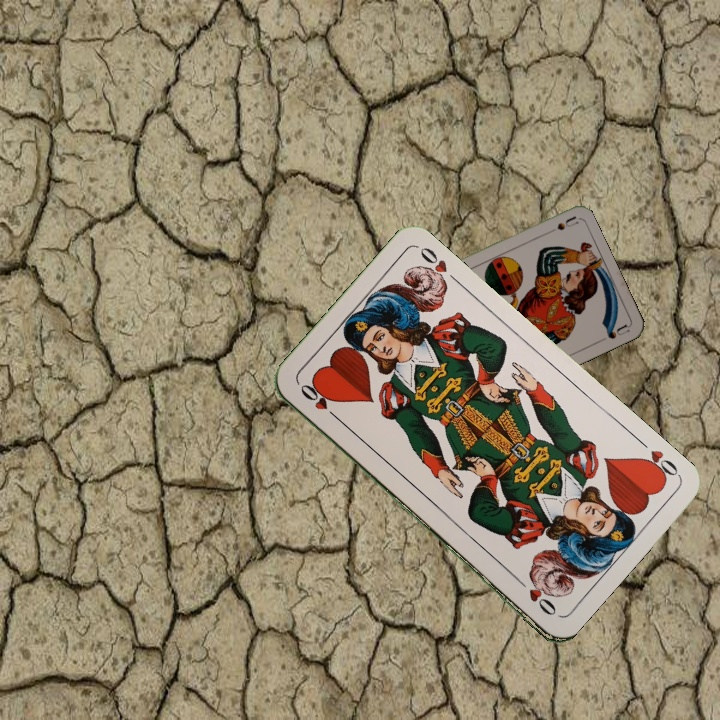HO: (633, 434, 682, 485), (296, 380, 343, 424)
SU: (540, 213, 580, 238)
